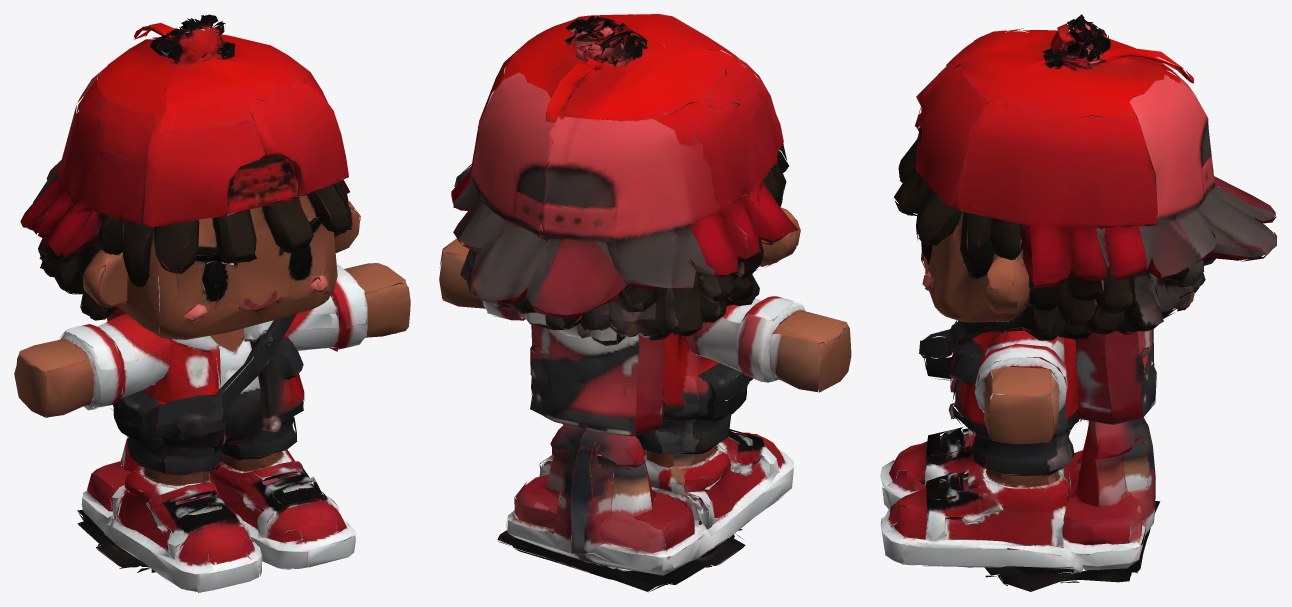
Rendered from ace_trellis_v1.glb.
3 renders of one model, left to right at view 1: azimuth 30°, elevation 25°; view 2: azimuth 150°, elevation 25°; view 3: azimuth 270°, elevation 25°, orthographic. The views are drawn at different scales.
Visible parts, largest first — view 1: Body; view 2: Body; view 3: Body.
Boxes of the visible parts, x1,y1,x2,y2 form: Body: [14, 14, 410, 592]; Body: [439, 14, 851, 592]; Body: [880, 14, 1276, 591].
Bounding box in the file's own units: 0.5588 × 0.72 × 0.4972.
Materials: 1 (1 with a texture image).
